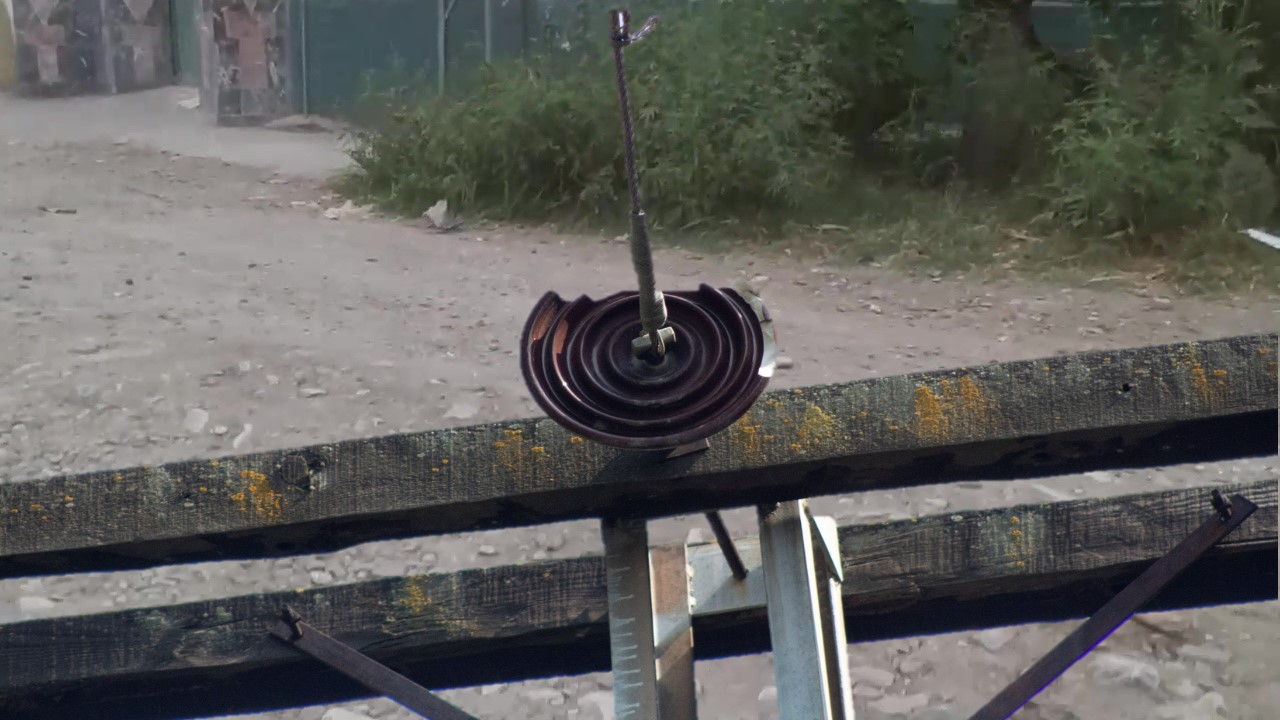defect_disc: (516, 281, 780, 463)
